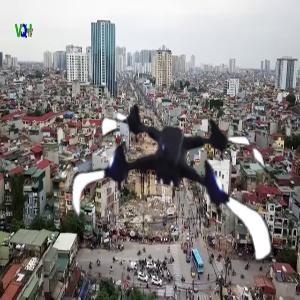drone: (65, 74, 272, 281)
